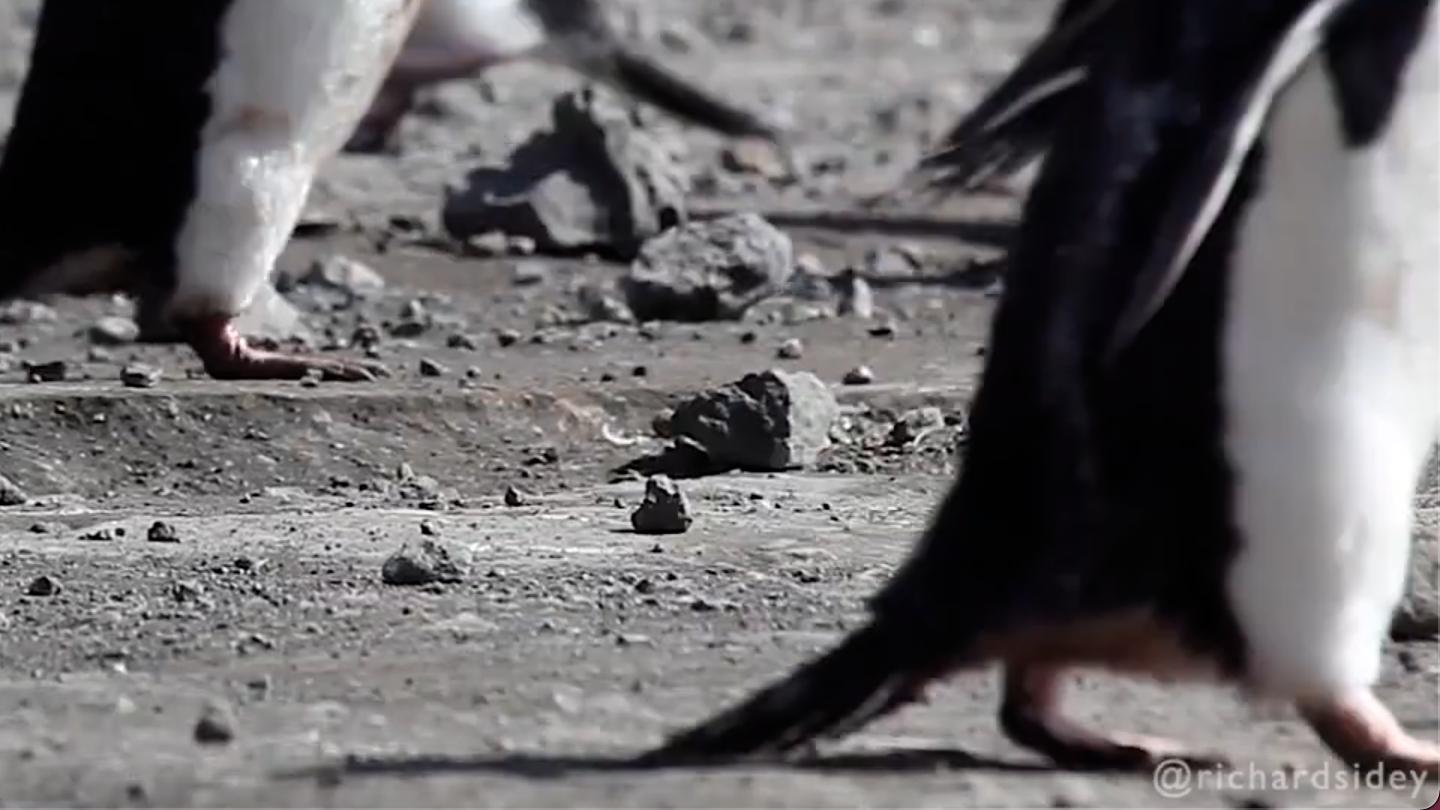Chinstrap Penguin: (0, 0, 657, 383), (66, 0, 746, 153)
